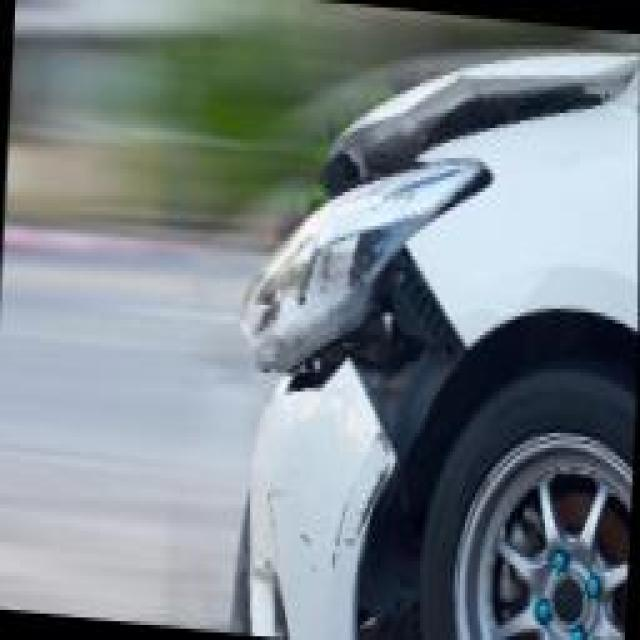Bonnet: (305, 19, 636, 184)
Bumper: (225, 358, 429, 640)
